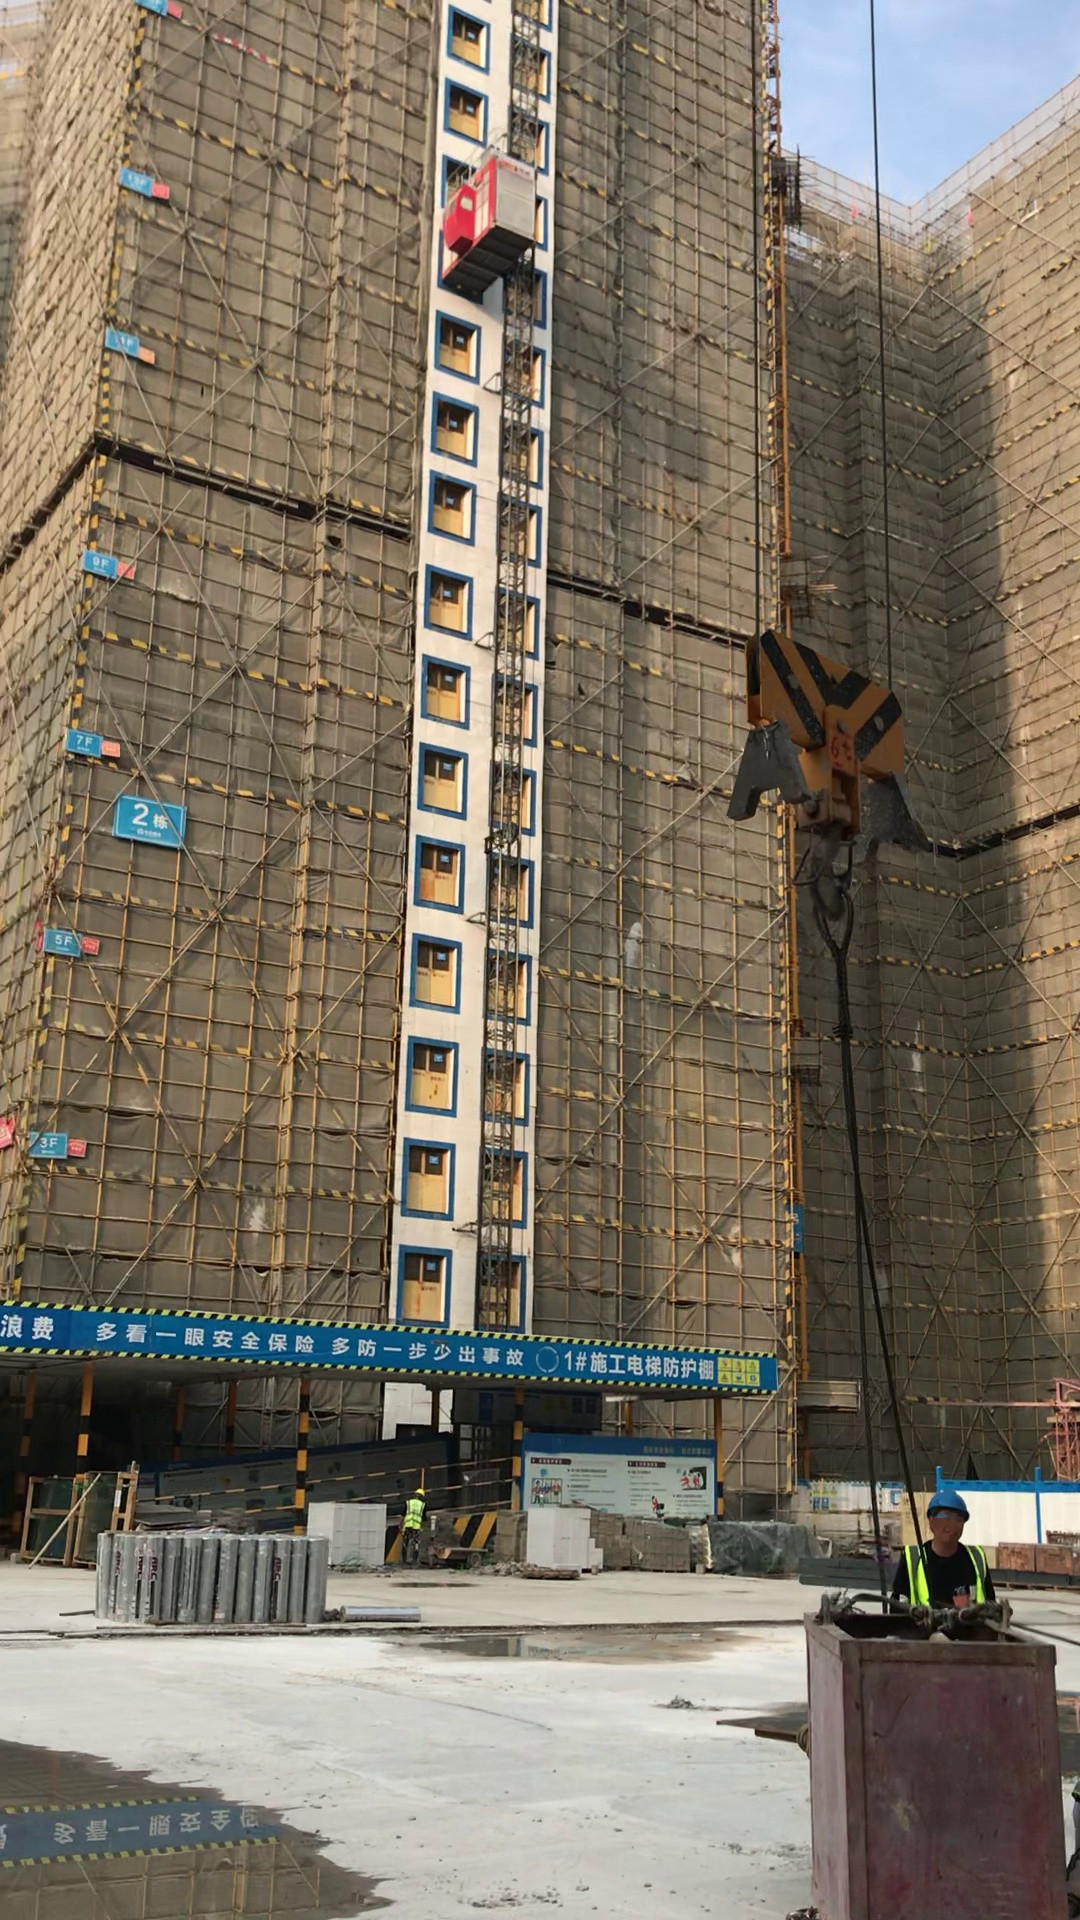brick: (306, 1500, 386, 1566), (527, 1508, 603, 1570)
helmet: (926, 1490, 969, 1516), (412, 1486, 425, 1497)
hook: (727, 630, 932, 914)
person: (889, 1486, 997, 1608), (399, 1487, 427, 1568)
slogan: (2, 1306, 769, 1382), (3, 1810, 274, 1856)
vest: (905, 1542, 989, 1607), (406, 1500, 423, 1533)
